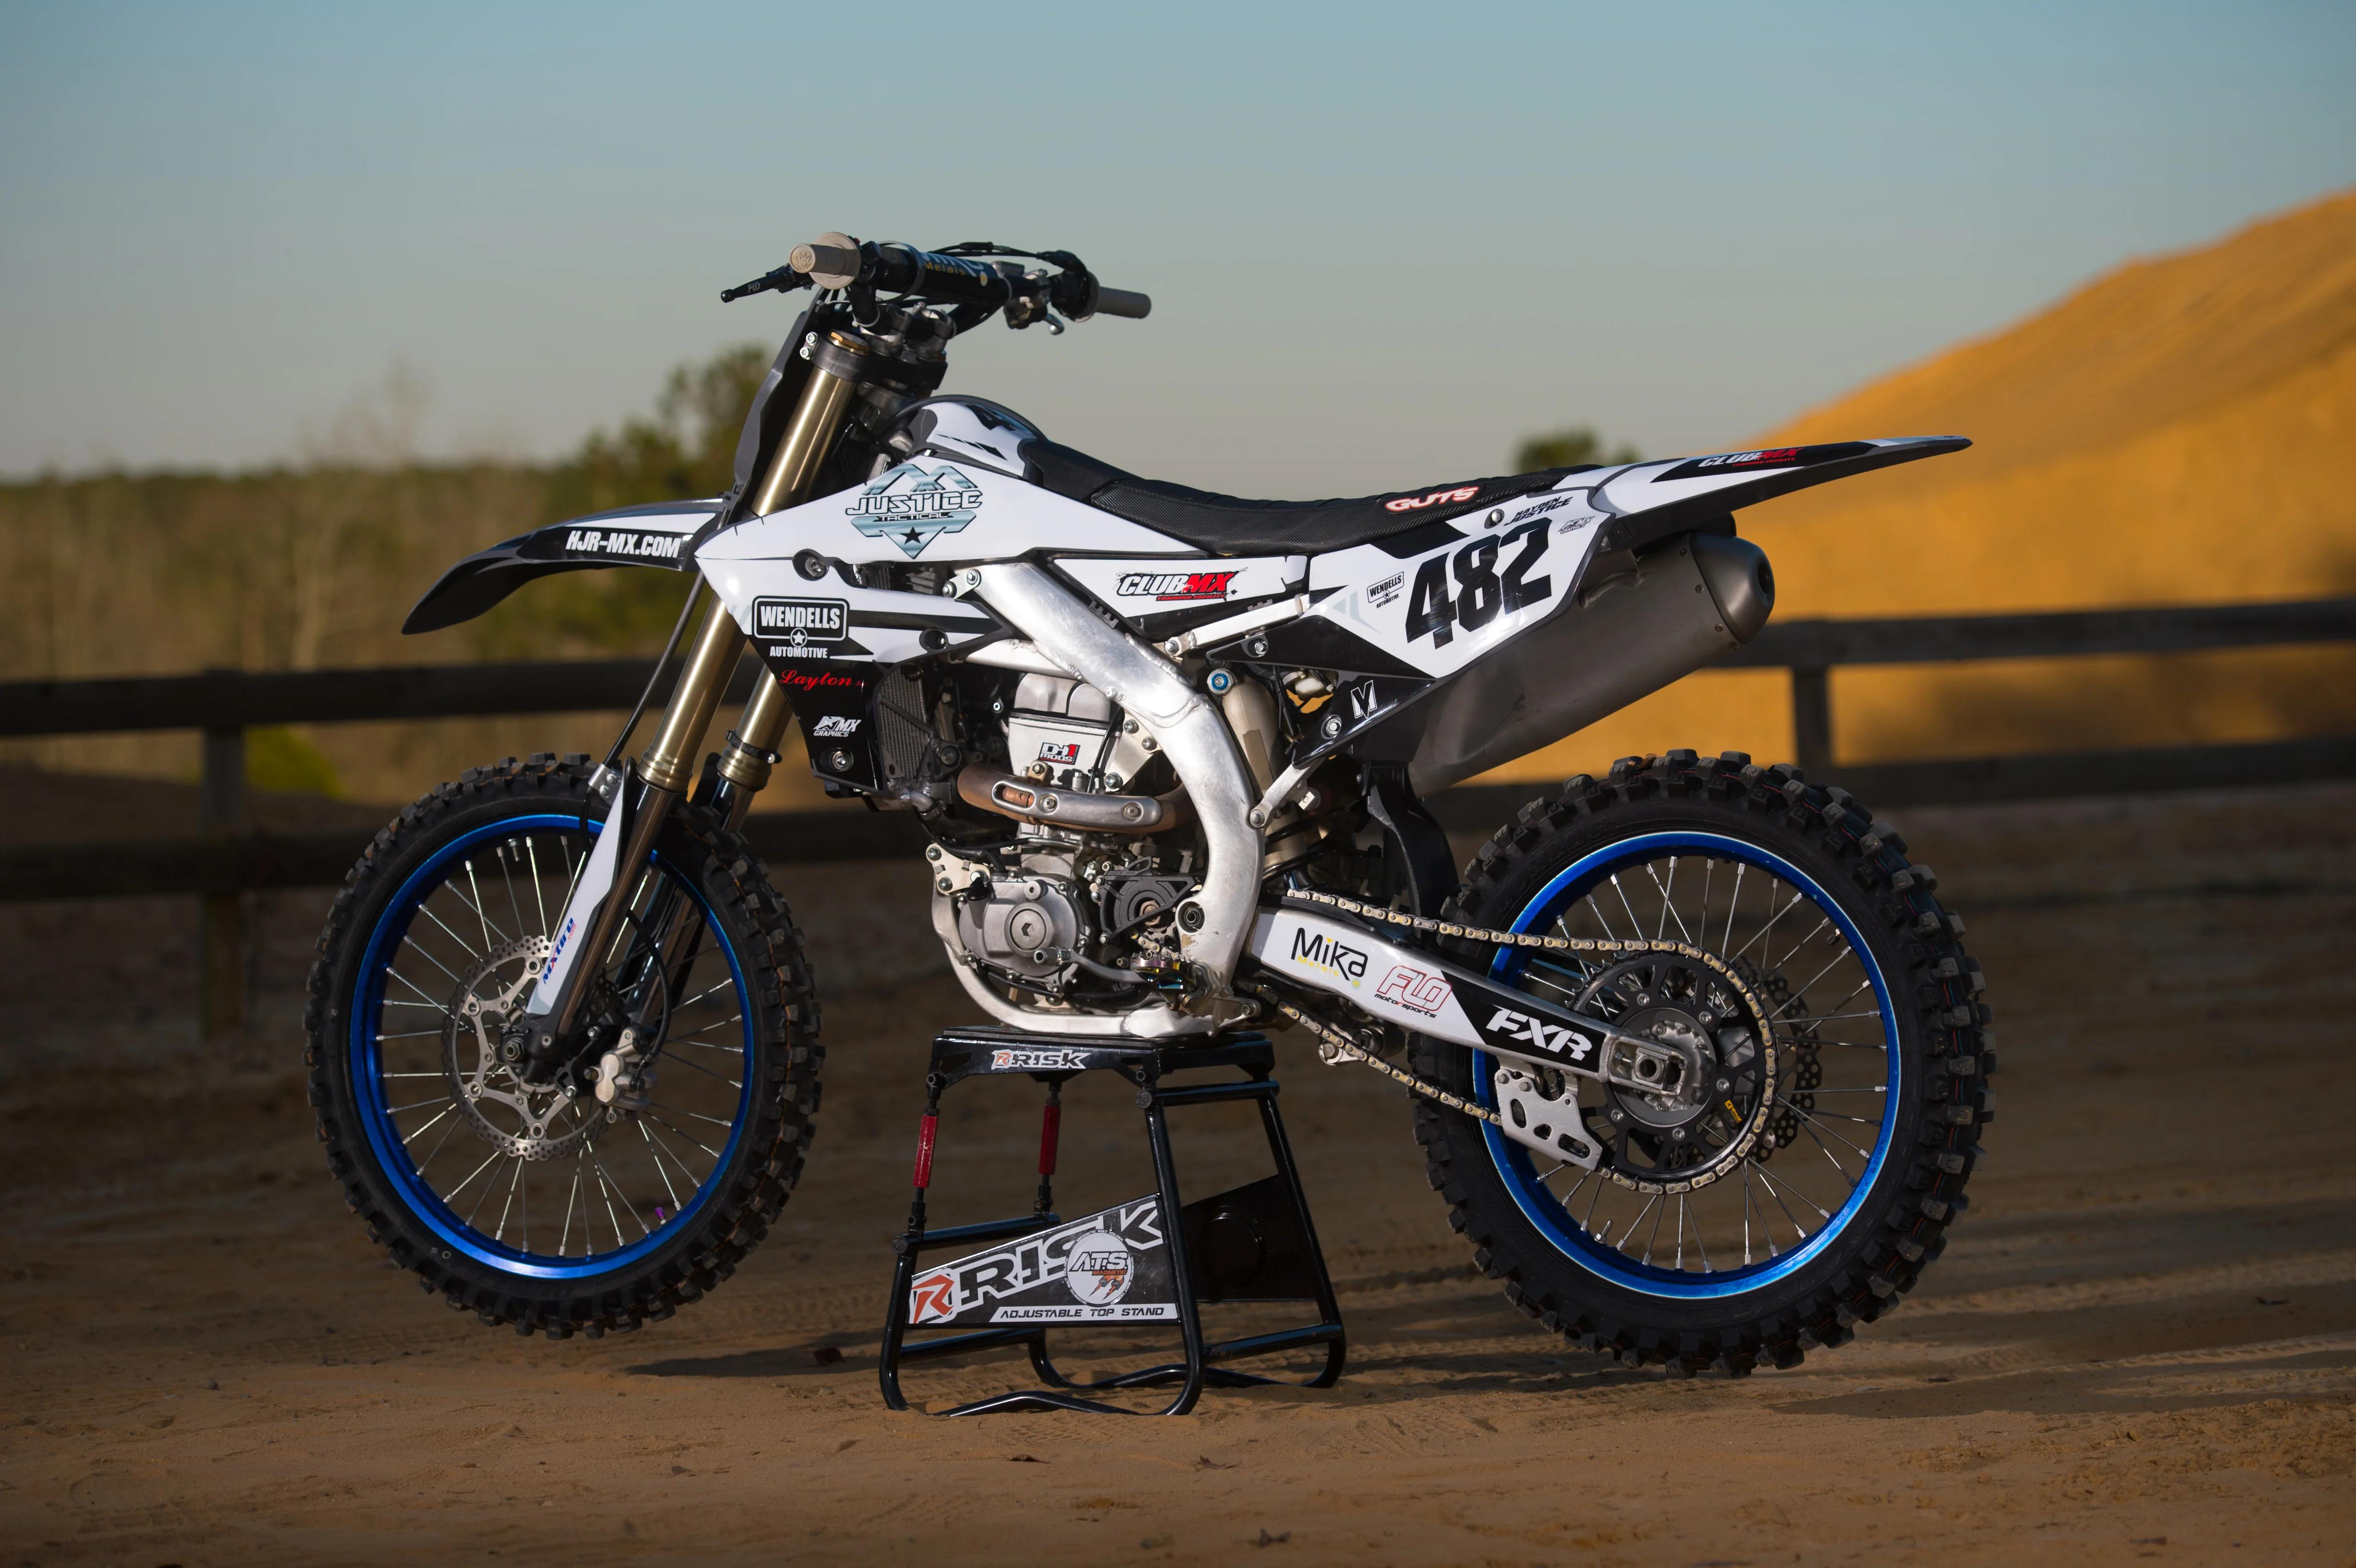motorcycle: (280, 206, 2048, 1400)
